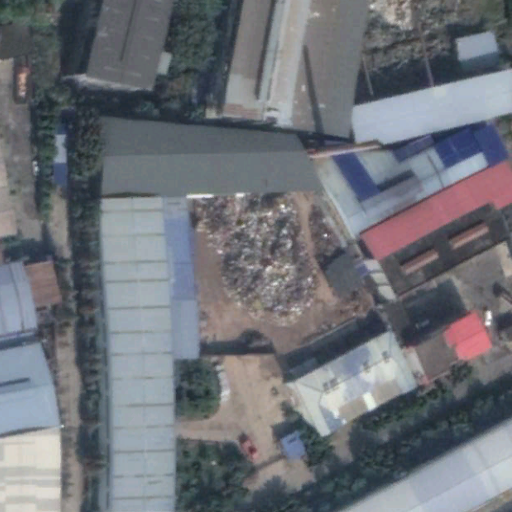msw: (199, 193, 317, 324)
